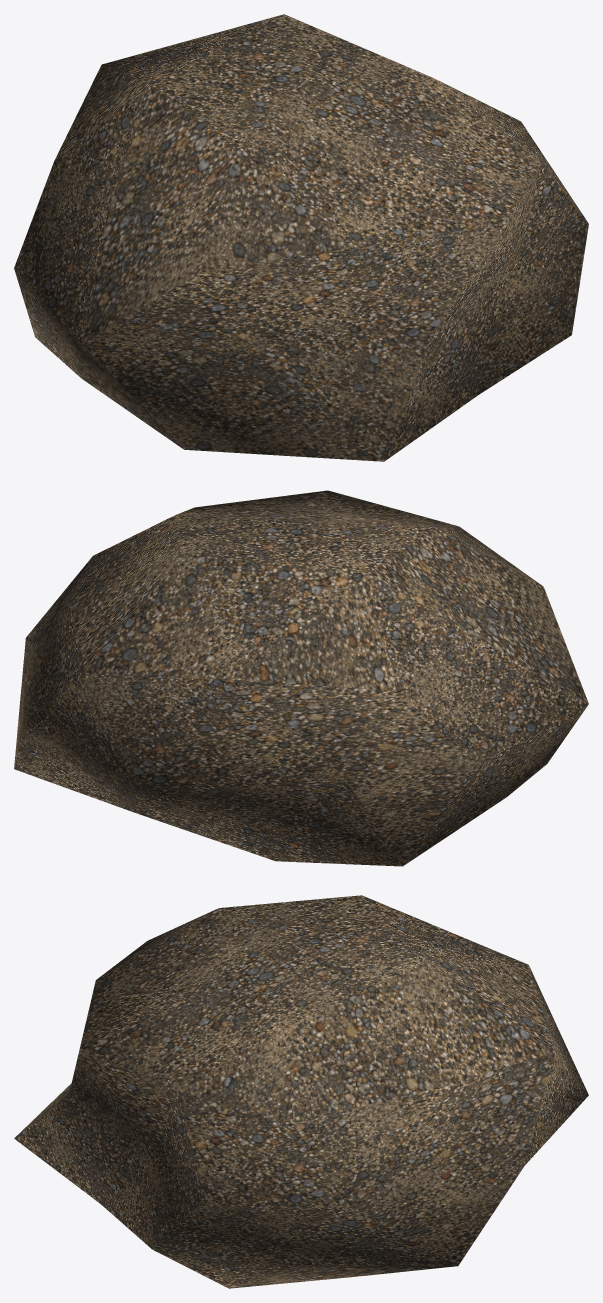
Rendered from level_hc_native_126_0.glb.
The picture shows the model from 3 angles, top to bottom: view 1: azimuth 30°, elevation 25°; view 2: azimuth 150°, elevation 25°; view 3: azimuth 270°, elevation 25°; orthographic projection. The views are drawn at different scales.
Visible parts, largest first — view 1: level_hc_native_126_0; view 2: level_hc_native_126_0; view 3: level_hc_native_126_0.
Boxes of the visible parts, x1,y1,x2,y2 form: level_hc_native_126_0: (14,14,588,461); level_hc_native_126_0: (14,490,588,866); level_hc_native_126_0: (14,895,588,1288).
Bounding box in the file's own units: 0.4608 × 0.2891 × 0.4828.
Materials: 1 (1 with a texture image).
